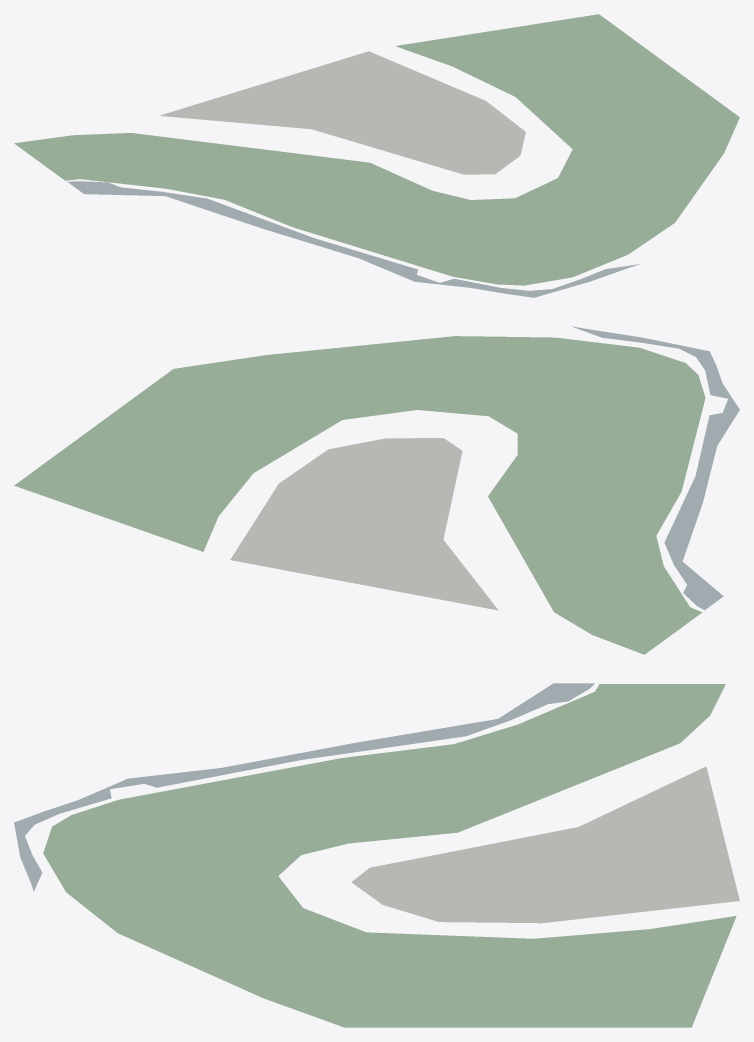
Rendered from 123_133_mid.glb.
3 views of the same model, one above another, from view 1: azimuth 30°, elevation 25°; view 2: azimuth 150°, elevation 25°; view 3: azimuth 270°, elevation 25° (orthographic). The views are drawn at different scales.
Size of the model in its own units: 500 by 0.4367 by 447.
